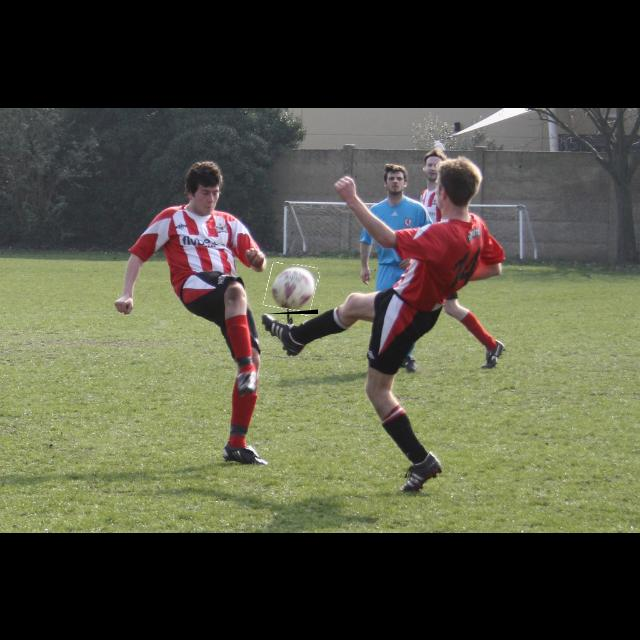Football: (266, 264, 318, 314)
